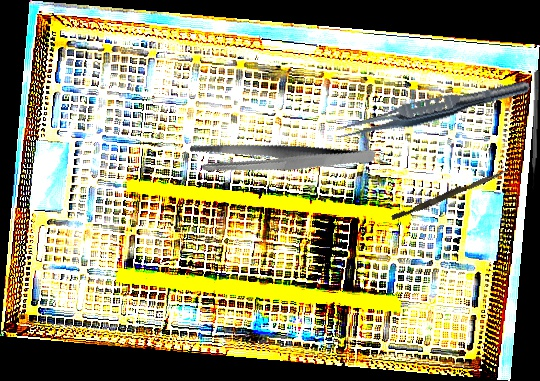Dressing Forceps: (186, 104, 376, 212)
Pusher: (390, 164, 510, 224), (529, 69, 540, 189)
Tissue Forceps: (332, 71, 532, 148)
